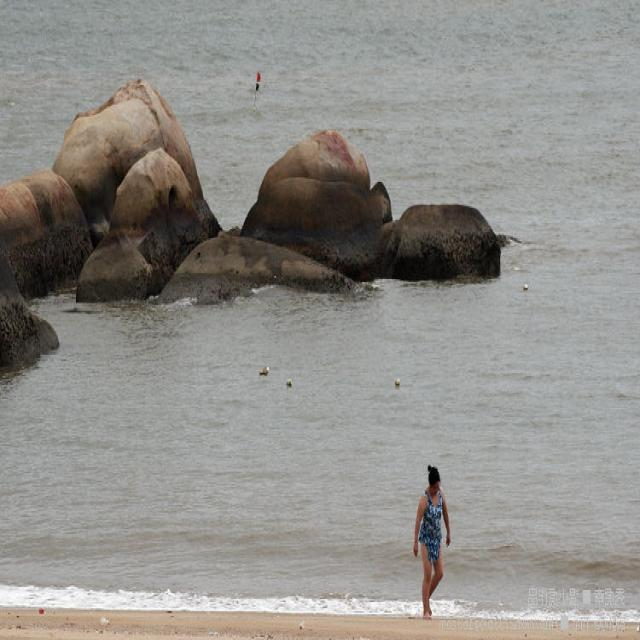reef: (0, 58, 503, 370)
